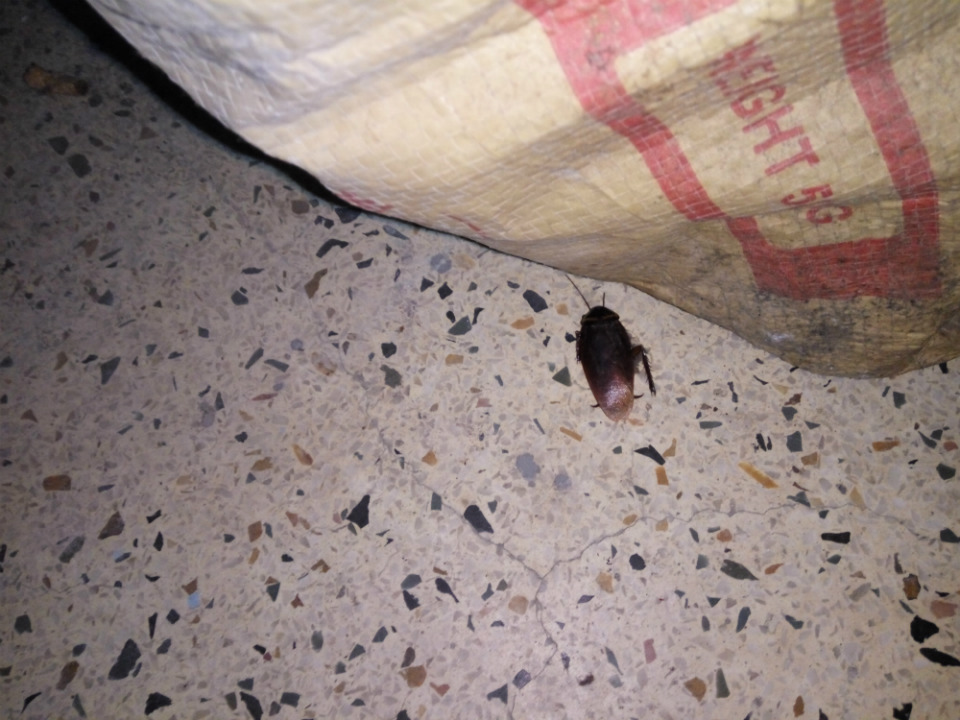cockroach: (460, 275, 699, 446)
